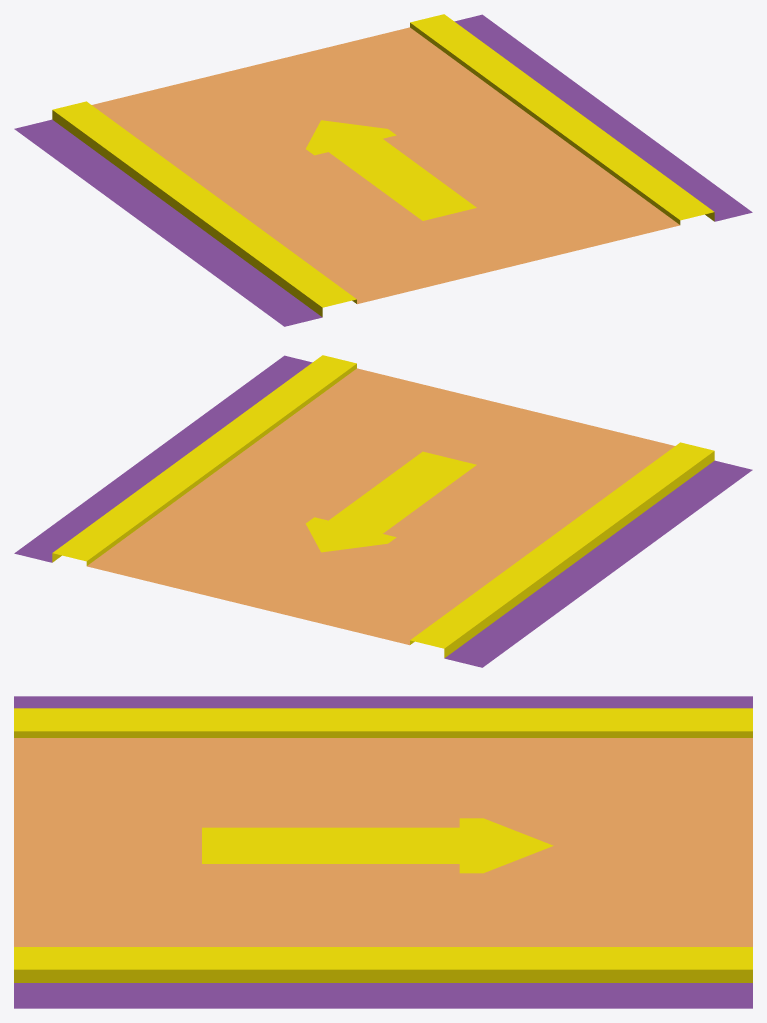
The model's file is roadStraightArrow.glb.
3 renders of one model, top to bottom at view 1: azimuth 30°, elevation 25°; view 2: azimuth 150°, elevation 25°; view 3: azimuth 270°, elevation 25°, orthographic. The views are drawn at different scales.
Parts seen in each view (by area): view 1: roadStraightArrow(Clone); view 2: roadStraightArrow(Clone); view 3: roadStraightArrow(Clone).
Part boxes in pixels (left/top/right/bottom): roadStraightArrow(Clone): left=14, top=14, right=752, bottom=326; roadStraightArrow(Clone): left=14, top=355, right=752, bottom=667; roadStraightArrow(Clone): left=14, top=696, right=752, bottom=1008.
Size of the model in its own units: 1 by 0.02 by 1.
